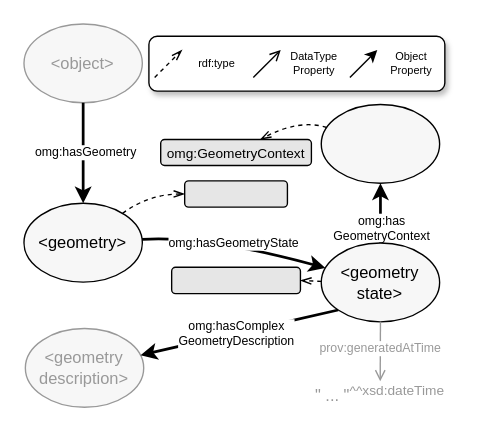
Some shapes in this 478 by 432 pixel diagram are drawn without their labels. The shapes that lost their labels are listed below. From the top down, each one's centre as x and y in pixels, then its label:
At (380,143): "<geometry context>".
At (235,193): "omg:Geometry".
At (235,280): "omg:GeometryState".
